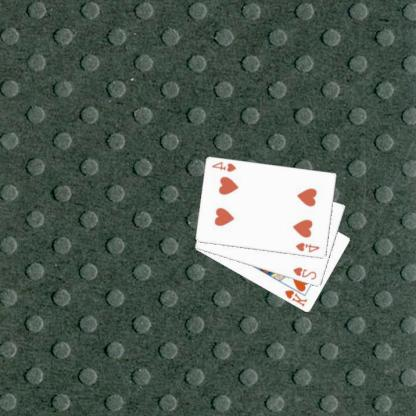2H: (292, 265, 320, 281)
4H: (294, 240, 322, 254), (212, 159, 240, 173)
KH: (284, 288, 310, 308)
